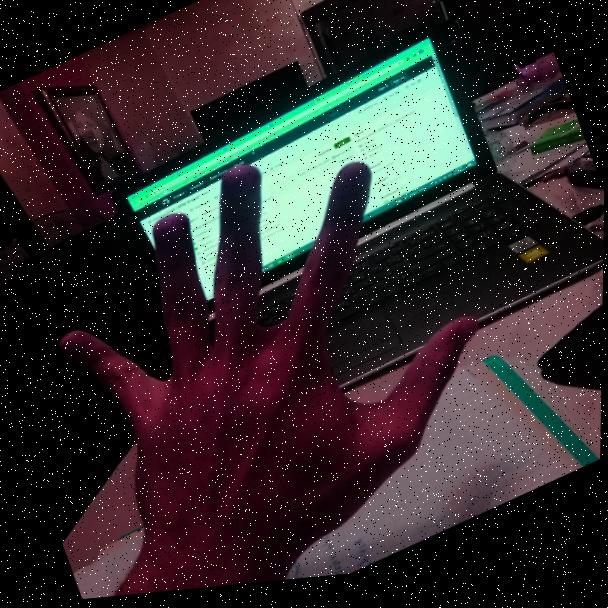five: (17, 82, 540, 606)
